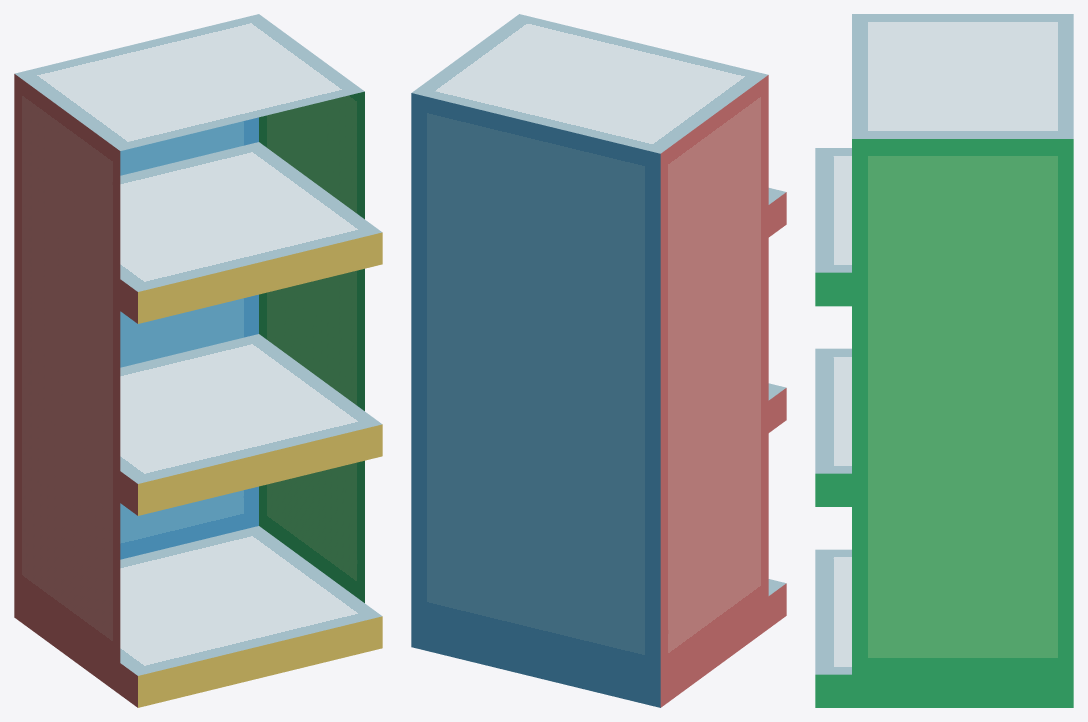
Rendered from shelf_tall.gltf.
3 renders of one model, left to right at view 1: azimuth 30°, elevation 25°; view 2: azimuth 150°, elevation 25°; view 3: azimuth 270°, elevation 25°, orthographic. The views are drawn at different scales.
Parts seen in each view (by area): view 1: shelf_body, cube (×3); view 2: shelf_body, cube (×3); view 3: shelf_body, cube (×3).
Boxes of the visible parts, box(x1,y1,x2,y2) form: shelf_body: box(14, 14, 364, 662); cube (×3): box(14, 142, 382, 707); shelf_body: box(411, 14, 768, 675); cube (×3): box(411, 188, 786, 707); shelf_body: box(852, 14, 1073, 674); cube (×3): box(815, 148, 1073, 707).
Bounding box in the file's own units: 1 × 2.12 × 0.875.
2 materials, 2 textured.
